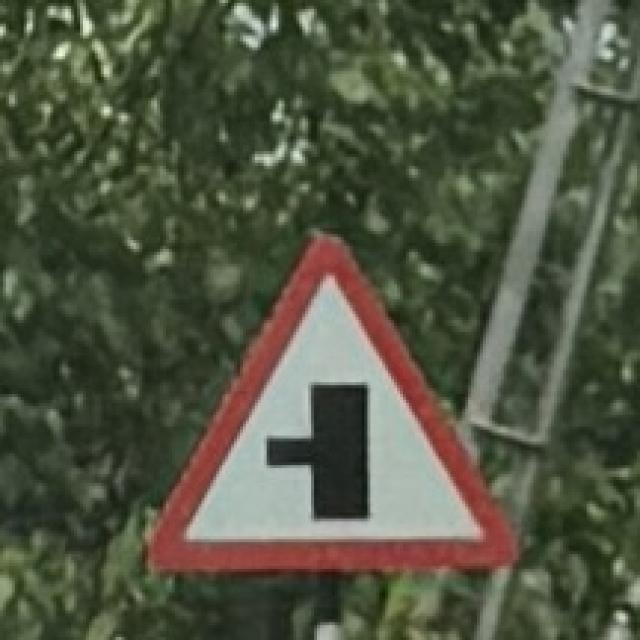SIDE_ROAD_LEFT: (126, 219, 523, 588)
